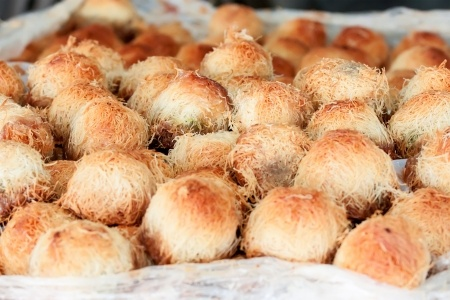Gateau de katayef: (1, 50, 450, 261)
